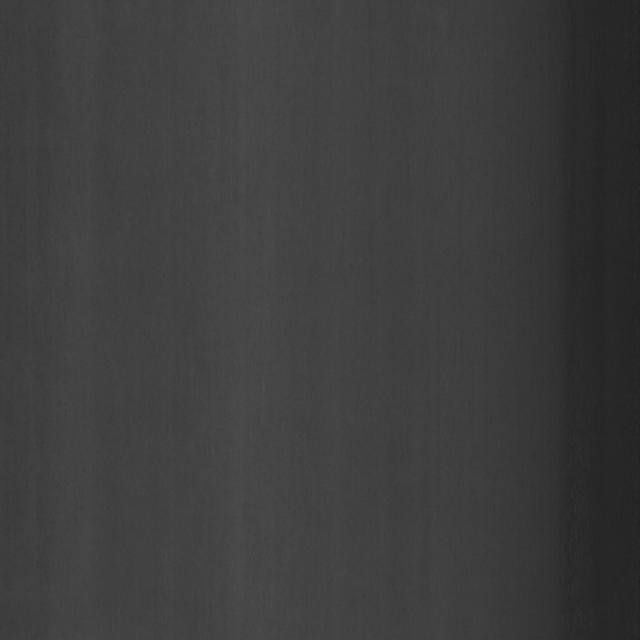inclusion: (40, 105, 103, 180)
